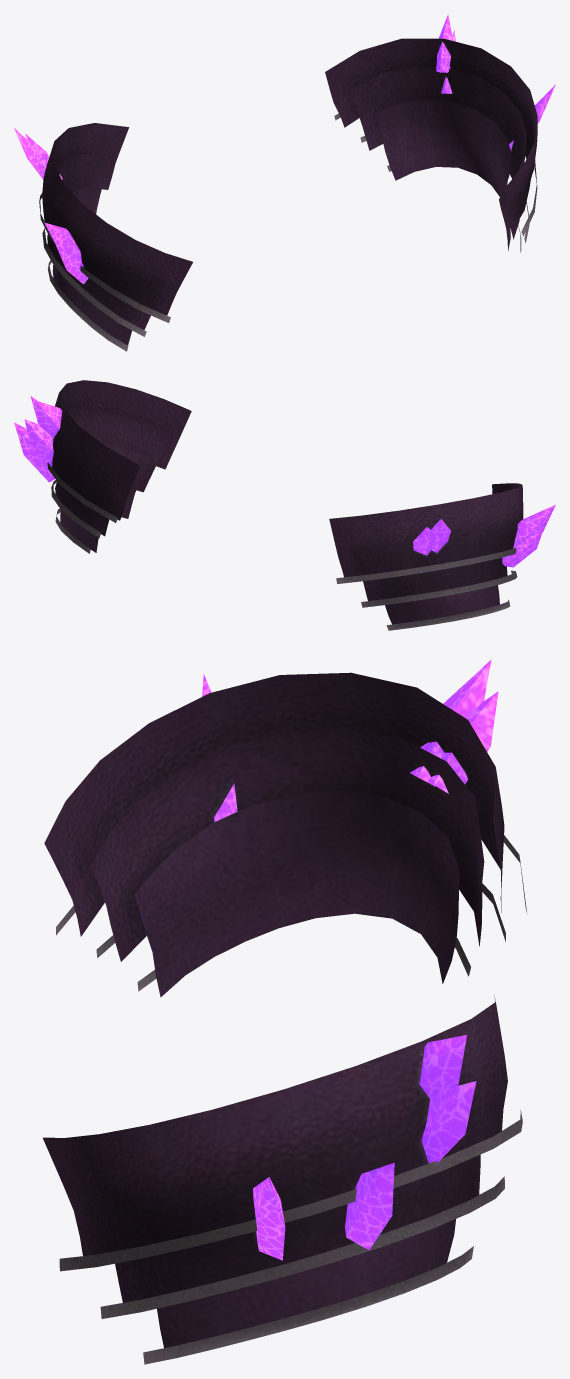
Rendered from Ombreiras_Leves_nivel75.glb.
3 views of the same model, one above another, from view 1: azimuth 30°, elevation 25°; view 2: azimuth 150°, elevation 25°; view 3: azimuth 270°, elevation 25° (orthographic). The views are drawn at different scales.
Parts seen in each view (by area): view 1: ombreiras_leves_nivel75; view 2: ombreiras_leves_nivel75; view 3: ombreiras_leves_nivel75.
Part boxes in pixels (bbox=[...]): ombreiras_leves_nivel75: bbox=[14, 14, 555, 351]; ombreiras_leves_nivel75: bbox=[14, 380, 555, 630]; ombreiras_leves_nivel75: bbox=[43, 659, 527, 1364].
Bounding box in the file's own units: 0.696 × 0.2222 × 0.2871.
1 material, 1 textured.
